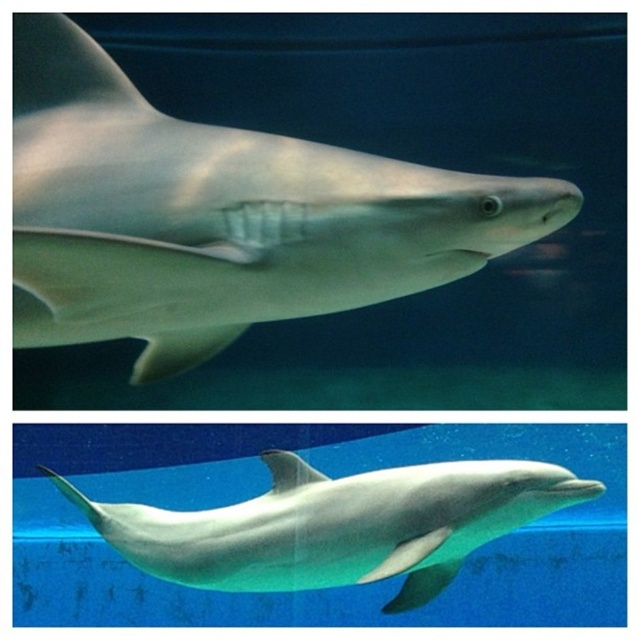Fish: (36, 450, 607, 614)
